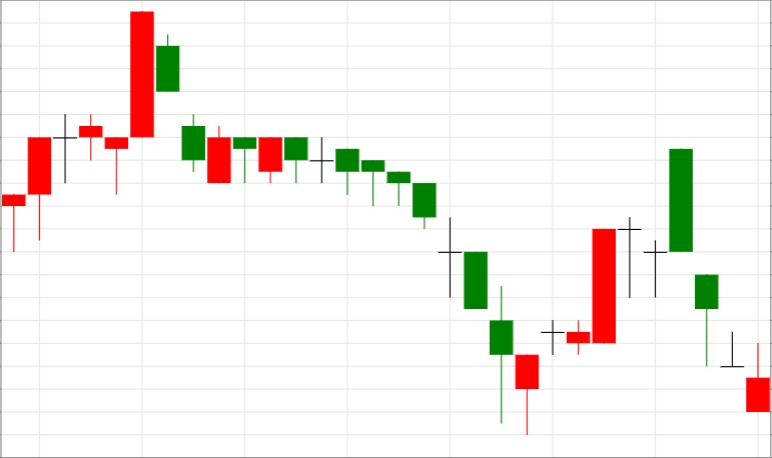hammer_rise: (285, 137, 539, 434)
